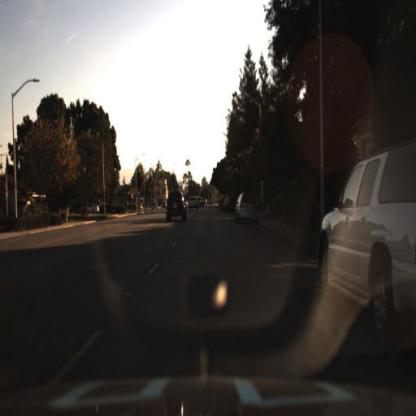car: (317, 138, 416, 352), (235, 189, 266, 226), (164, 189, 187, 222), (82, 203, 103, 217), (188, 197, 202, 214), (151, 202, 160, 215)
